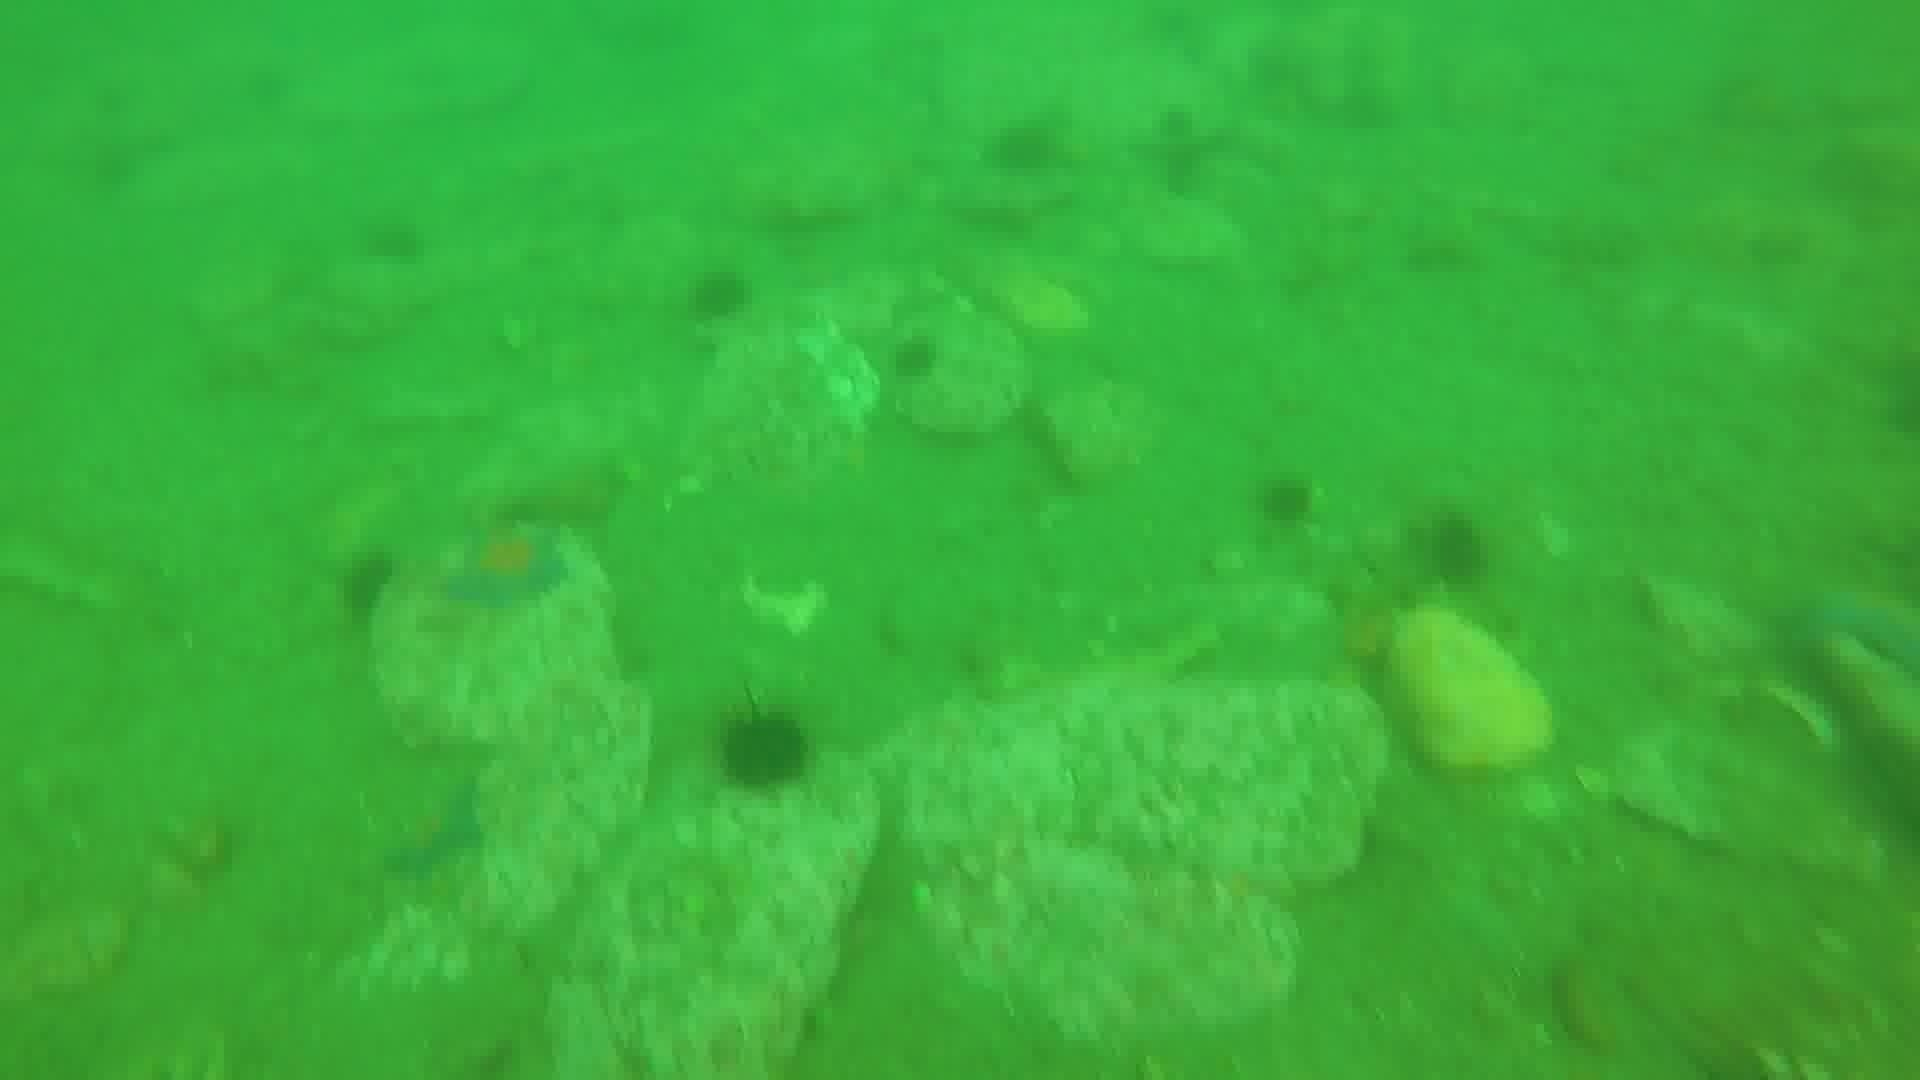echinus: (711, 702, 818, 798), (1407, 508, 1494, 591), (331, 547, 402, 626), (982, 116, 1064, 181), (682, 264, 756, 326), (1250, 469, 1321, 531), (356, 211, 430, 270), (885, 330, 945, 386)
starfish: (375, 773, 492, 885), (440, 518, 574, 615), (1799, 576, 1920, 680)
